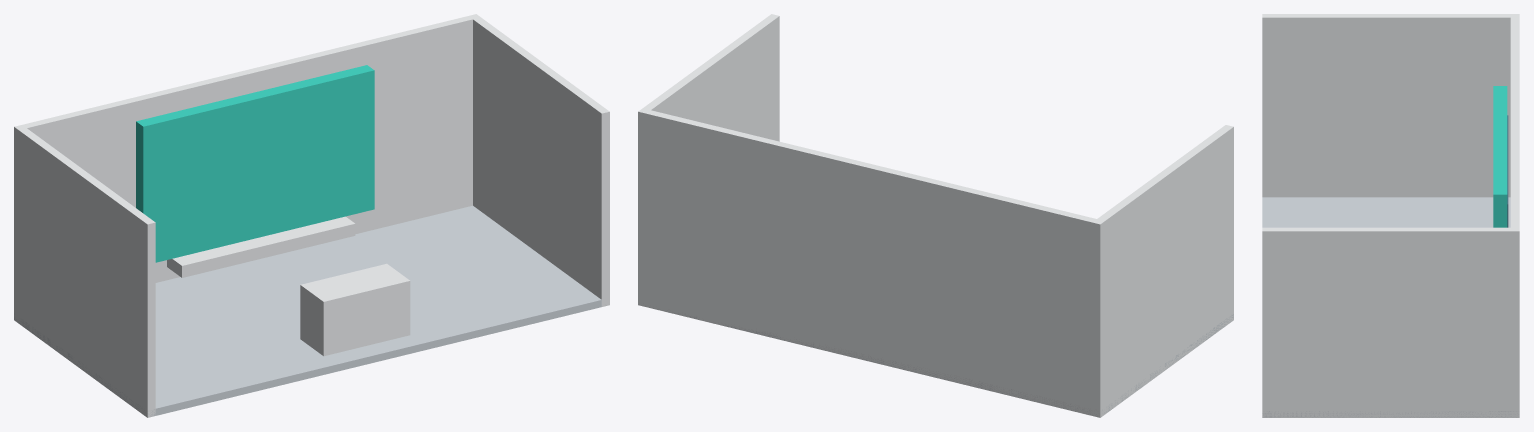
The picture shows the model from 3 angles, left to right: view 1: azimuth 30°, elevation 25°; view 2: azimuth 150°, elevation 25°; view 3: azimuth 270°, elevation 25°; orthographic projection. The views are drawn at different scales.
Visible parts, largest first — view 1: Exhibition Booth Concept; view 2: Exhibition Booth Concept; view 3: Exhibition Booth Concept.
Part boxes in pixels (box(x1,y1,x2,y2)): Exhibition Booth Concept: box(14, 14, 609, 417); Exhibition Booth Concept: box(638, 14, 1233, 417); Exhibition Booth Concept: box(1262, 14, 1519, 417).
Bounding box in the file's own units: 8 × 3.2 × 4.
